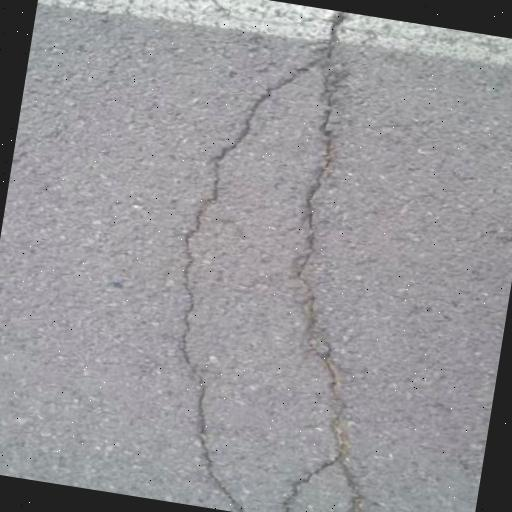spalling: (170, 47, 324, 512), (281, 15, 379, 512), (265, 448, 333, 512)
